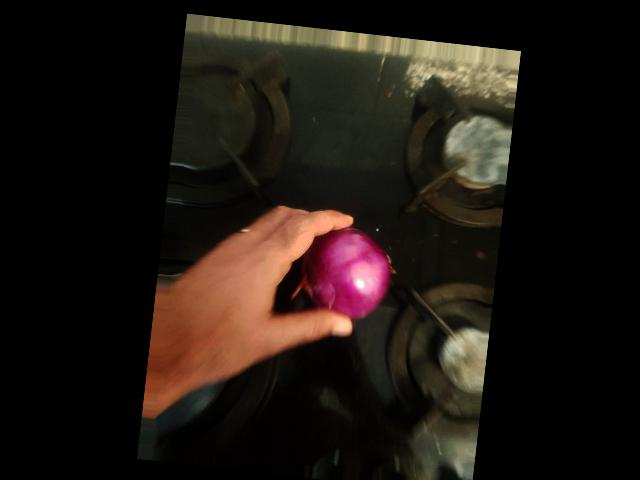onion: (355, 144, 447, 238)
